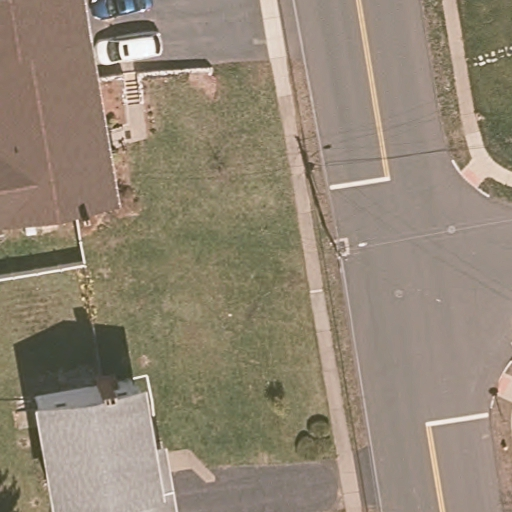DT: (320, 212, 351, 268)
